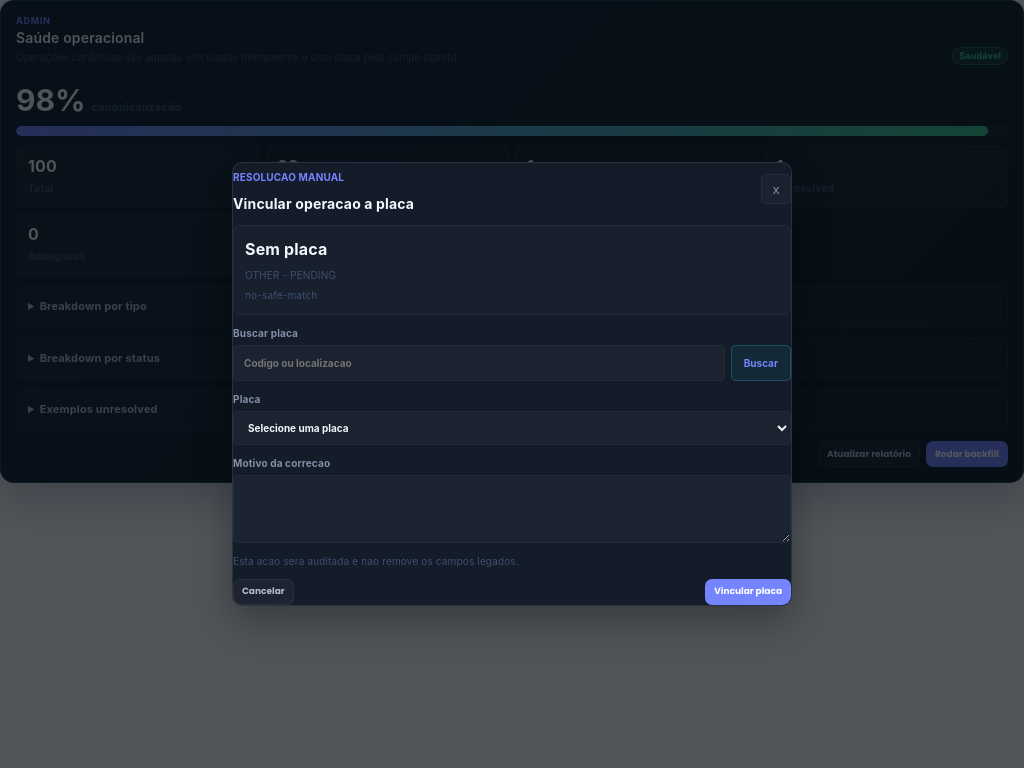
Test: OperationCanonicalizationCard › busca placa, exige motivo e envia resolucao manual
Earlier steps of the test are not shown.
Later steps or results of the test are not shown.
Type "PL-1" into the field with placeholder "Codigo ou localizacao" at [479, 363], box [233,345,725,381]
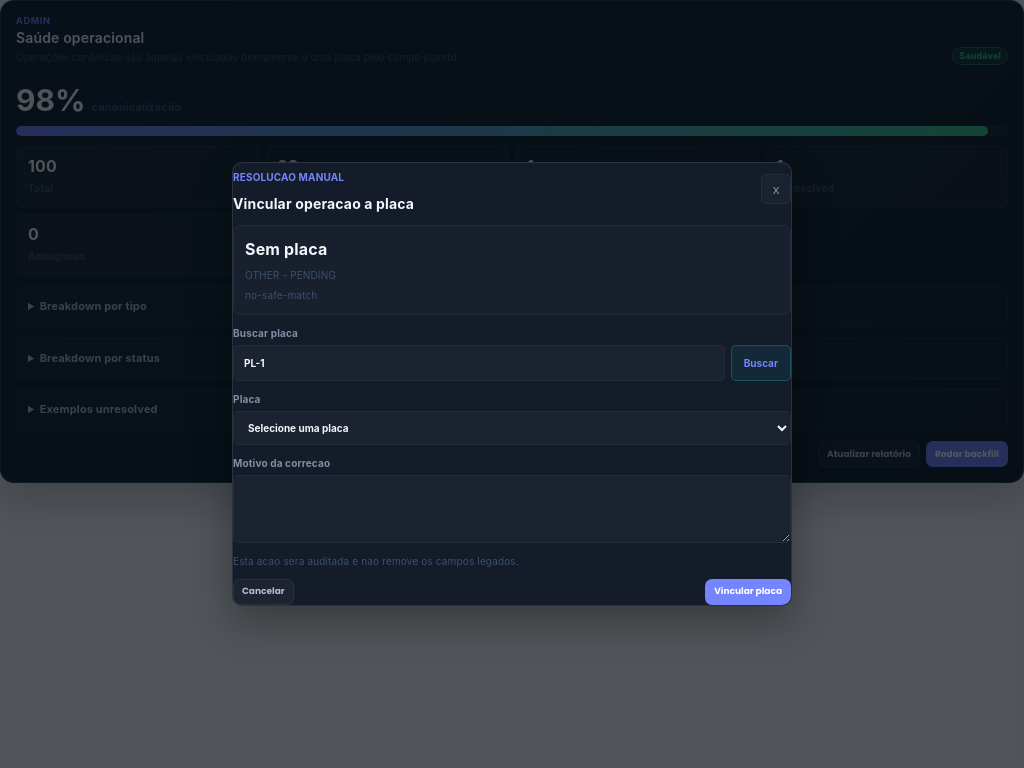
Click the button "Buscar" at [761, 363], box [731,345,791,381]
Select "PL-1 - Rua A" in the dropdown at [512, 428], box [233,411,791,445]
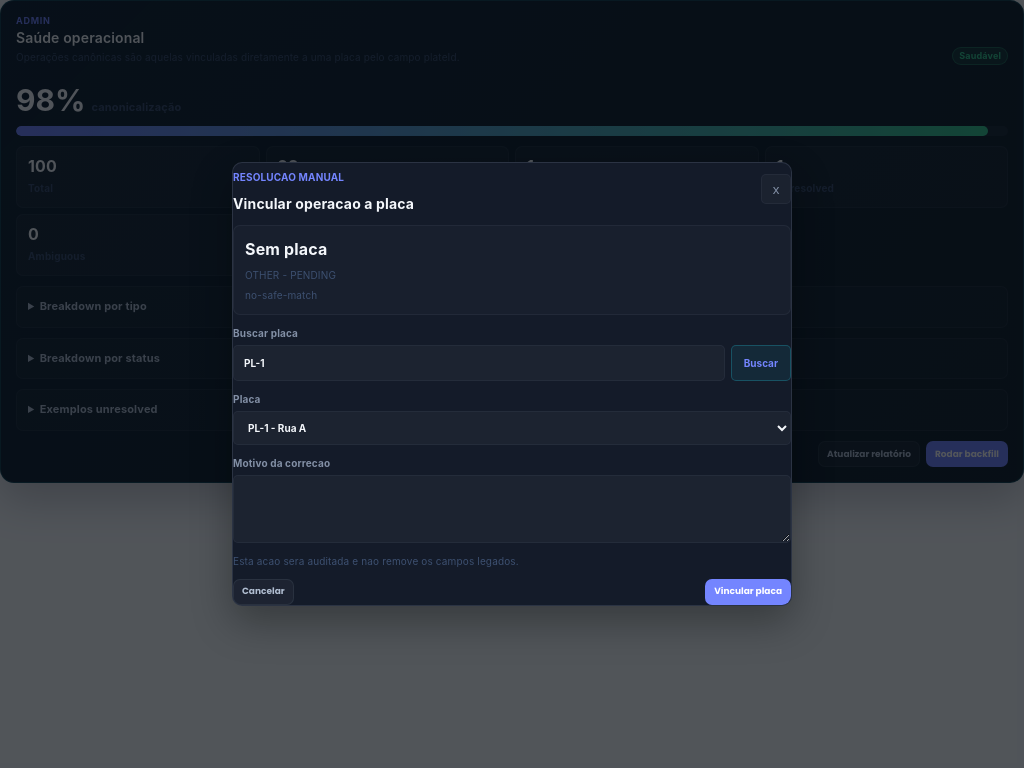
Click the button "Vincular placa" at [748, 592], box [705,579,791,605]
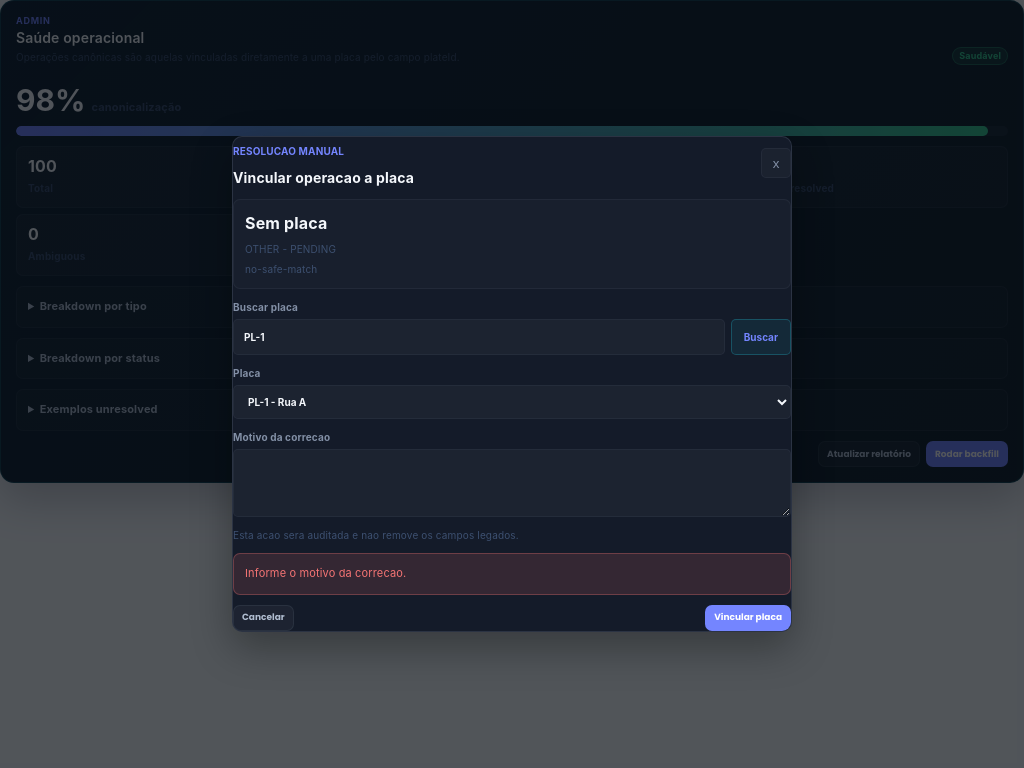
Expected: the message reads "Informe o motivo da correcao.", [245,566,406,580]
